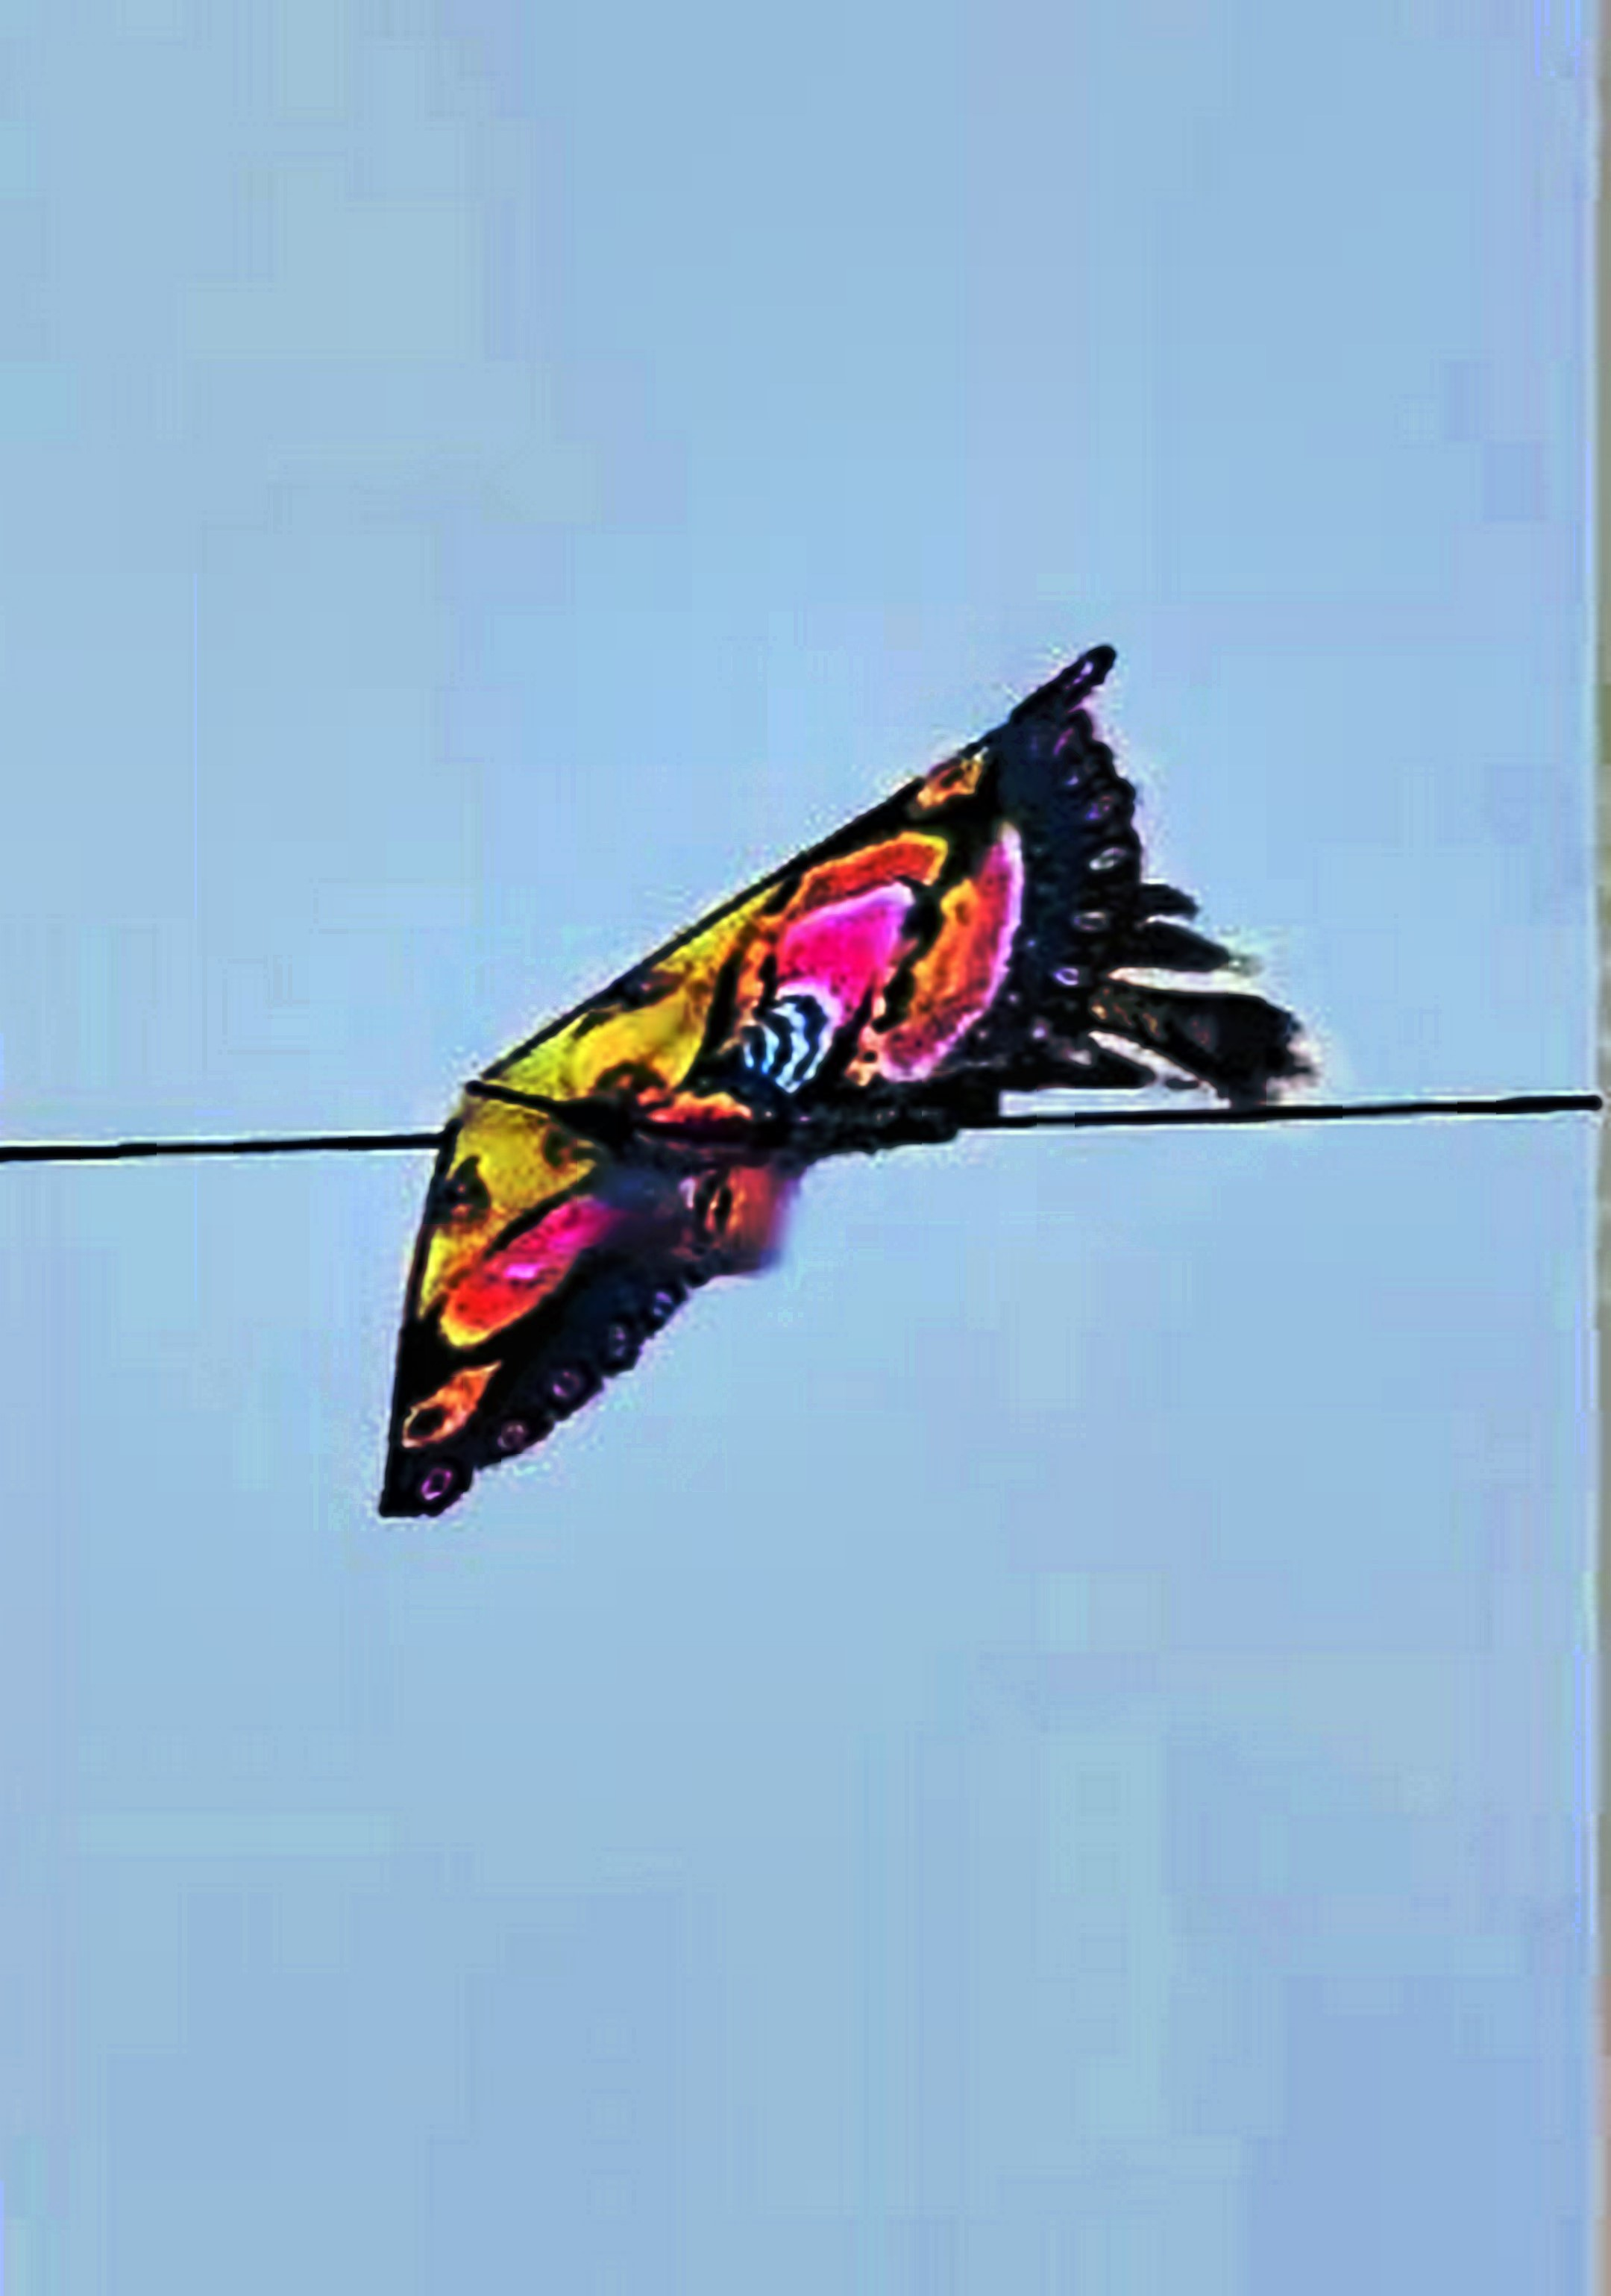wire foreign body: (305, 639, 1285, 1560)
